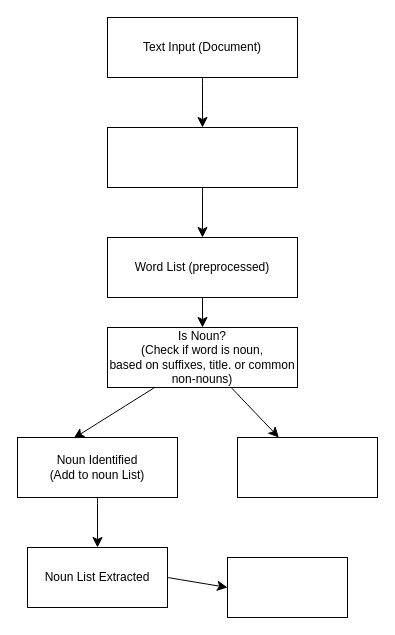
Image size: 395x635. Some labels were removed from this diagram. The centre of each missing label's shape, as x and y in pixels:
"Not a Noun (Ignore Word)" goes at (x=307, y=467).
"Preprocess Text (Normalize text, remove non-alphanumerics, split intro words" goes at (x=202, y=157).
"Return Noun List" goes at (x=287, y=587).
